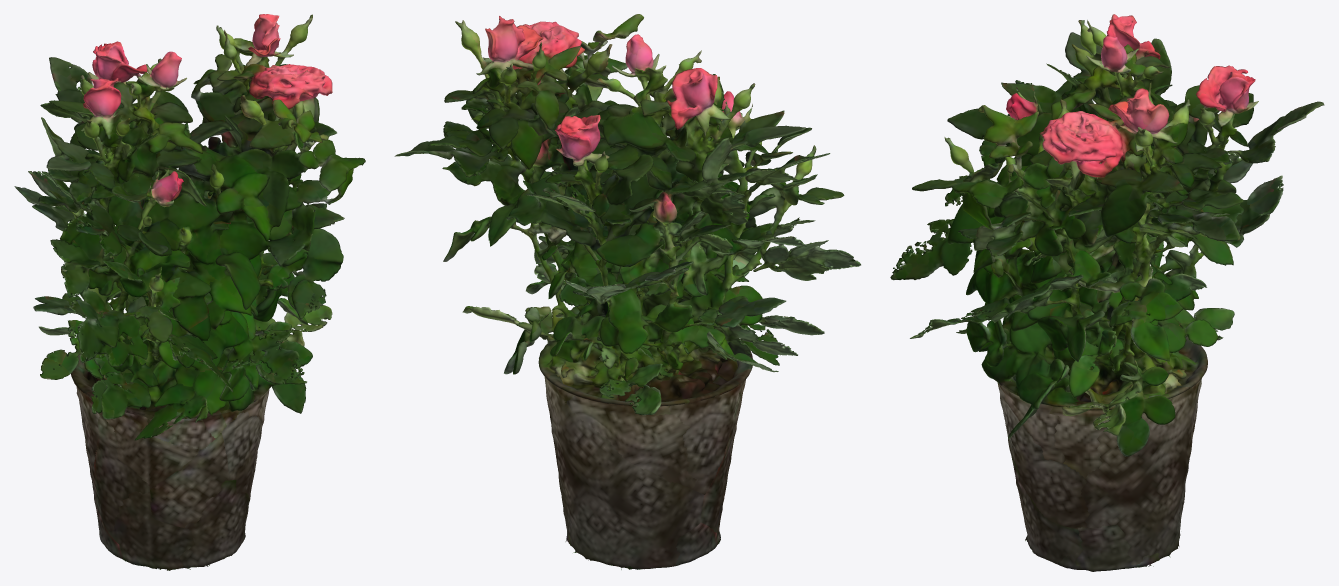
The picture shows the model from 3 angles, left to right: view 1: azimuth 30°, elevation 25°; view 2: azimuth 150°, elevation 25°; view 3: azimuth 270°, elevation 25°; orthographic projection. The views are drawn at different scales.
Visible parts, largest first — view 1: Object_3, Object_2; view 2: Object_3, Object_2; view 3: Object_3, Object_2.
Part boxes in pixels (x1,y1,x2,y2): Object_3: [14, 14, 365, 440]; Object_2: [73, 381, 269, 570]; Object_3: [394, 14, 860, 415]; Object_2: [544, 347, 751, 569]; Object_3: [890, 14, 1324, 456]; Object_2: [996, 378, 1201, 571].
Bounding box in the file's own units: 14.21 × 20.3 × 15.76.
Materials: 2 (2 with a texture image).
